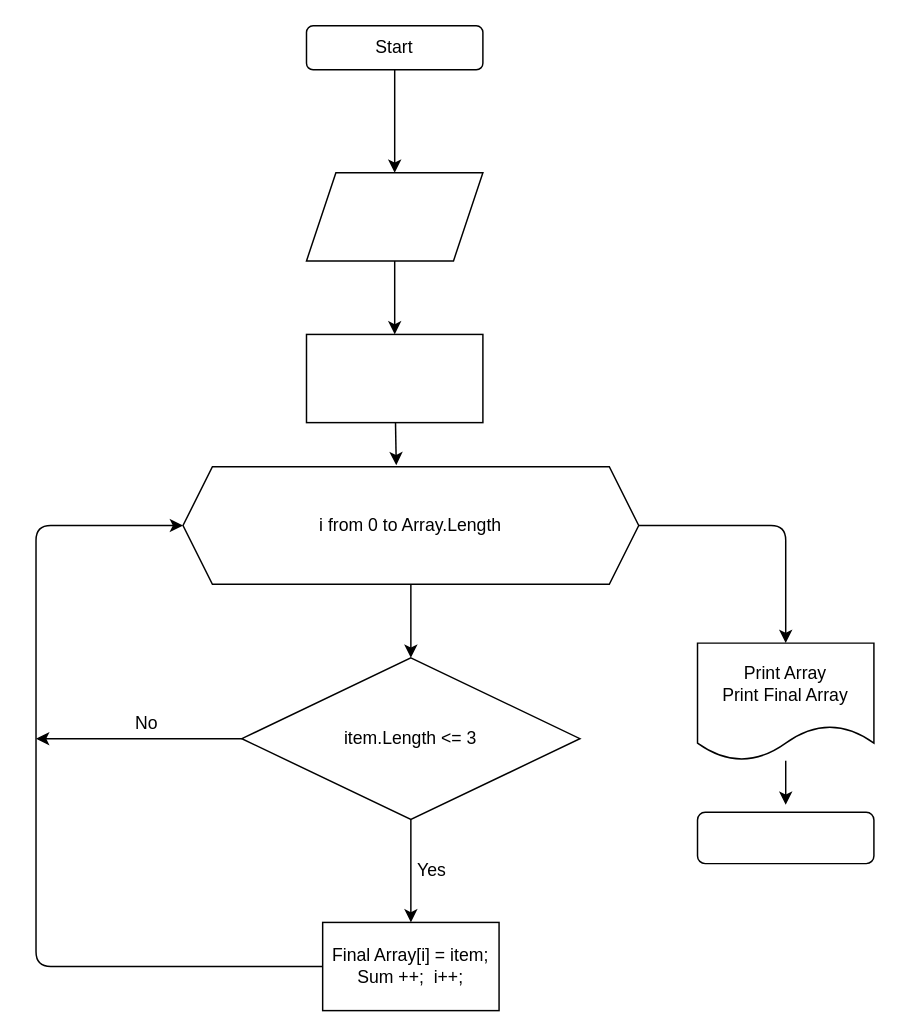
This 900x1036 diagram has some shape labels left out. Each missing label, with the centre of its shape:
Enter String Array: pixel 394 216
i = 0; Array; Final Array; sum = 0;: pixel 394 378
Stop: pixel 785 837
